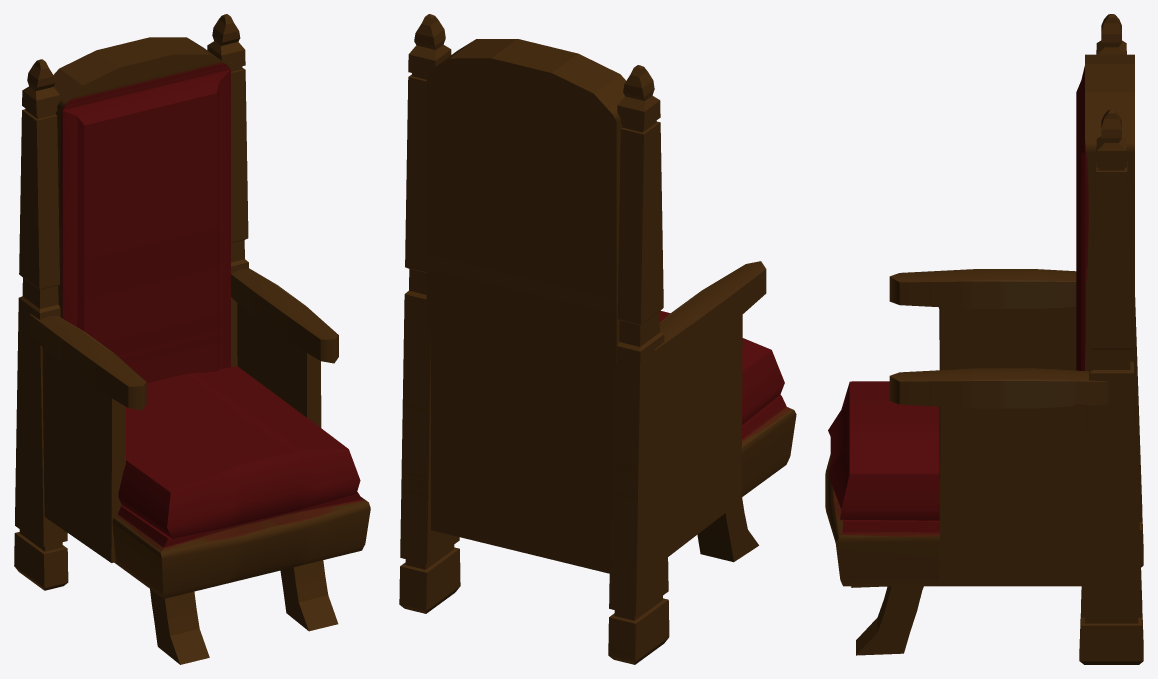
The model's file is 3DModel_QueensThrone_V1_BS.fbx.
3 views of the same model, side by side, from view 1: azimuth 30°, elevation 25°; view 2: azimuth 150°, elevation 25°; view 3: azimuth 270°, elevation 25° (orthographic). The views are drawn at different scales.
Parts seen in each view (by area): view 1: QueensThrone; view 2: QueensThrone; view 3: QueensThrone.
Part boxes in pixels (x1,y1,x2,y2): QueensThrone: [14, 14, 370, 664]; QueensThrone: [399, 14, 796, 664]; QueensThrone: [825, 14, 1143, 664].
Size of the model in its own units: 1.63 by 3.72 by 1.96.
Materials: 1 (1 with a texture image).
